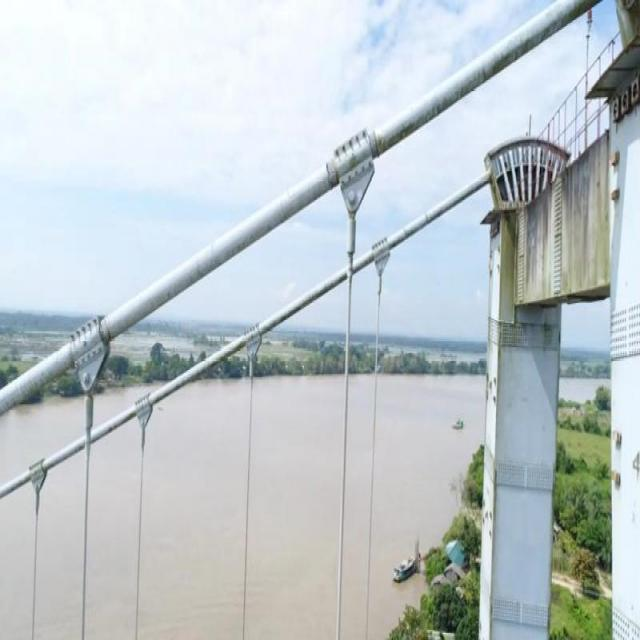Slippage: (326, 159, 340, 188), (368, 129, 379, 159), (100, 317, 110, 343)
